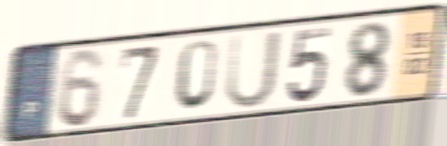0: (170, 38, 219, 114)
5: (284, 24, 336, 104)
6: (54, 45, 108, 131)
7: (118, 44, 162, 122)
8: (344, 19, 393, 100)
U: (223, 28, 284, 113)
